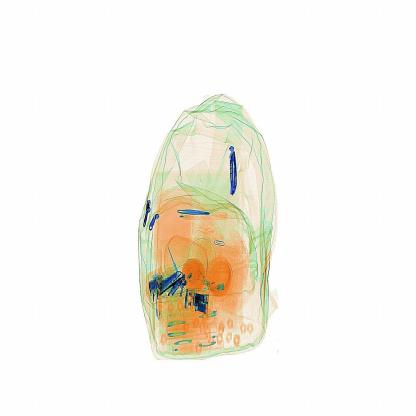knife: (221, 142, 255, 209)
